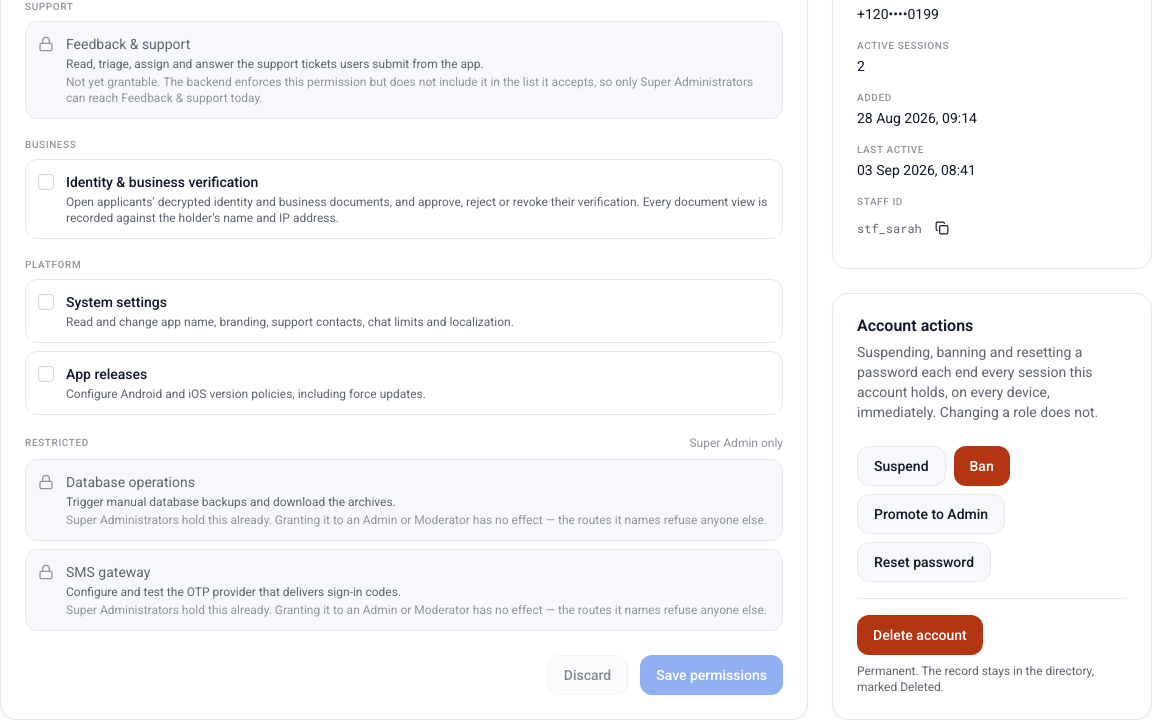
Test: status changes › leads with the consequence, not the label
Click the button "Suspend" at (901, 466), box [857,446,946,486]
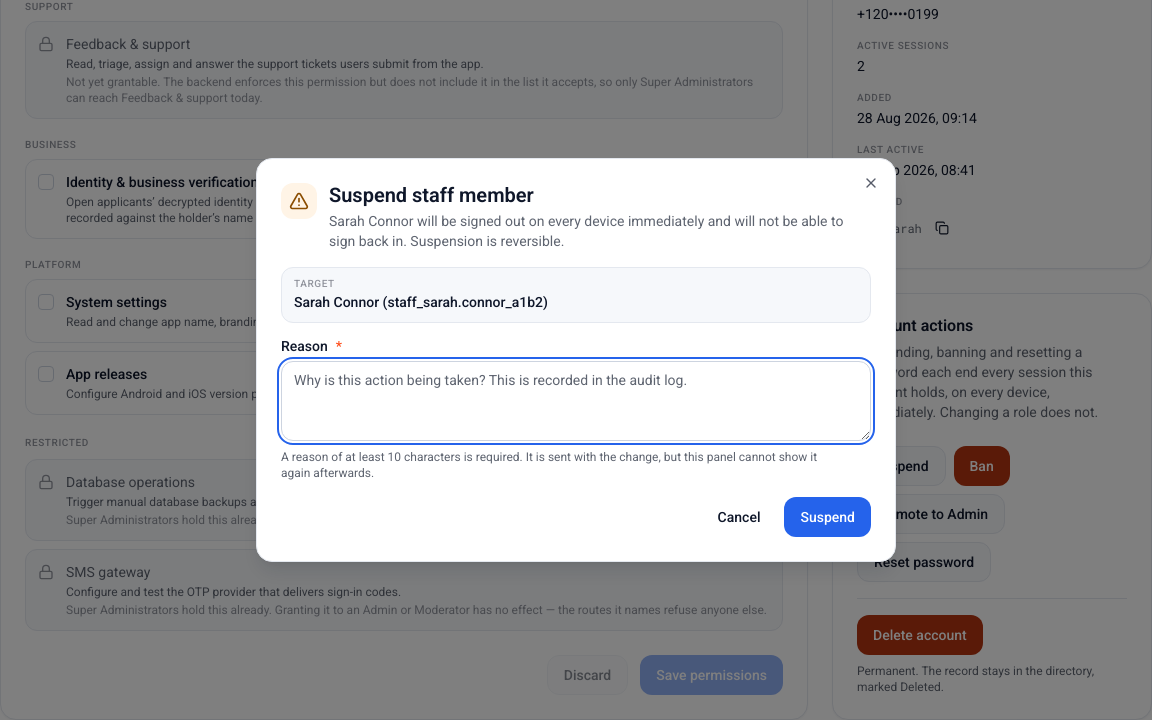
Check: the text "signed out on every device immediately" is shown, box [329,213,843,249]
